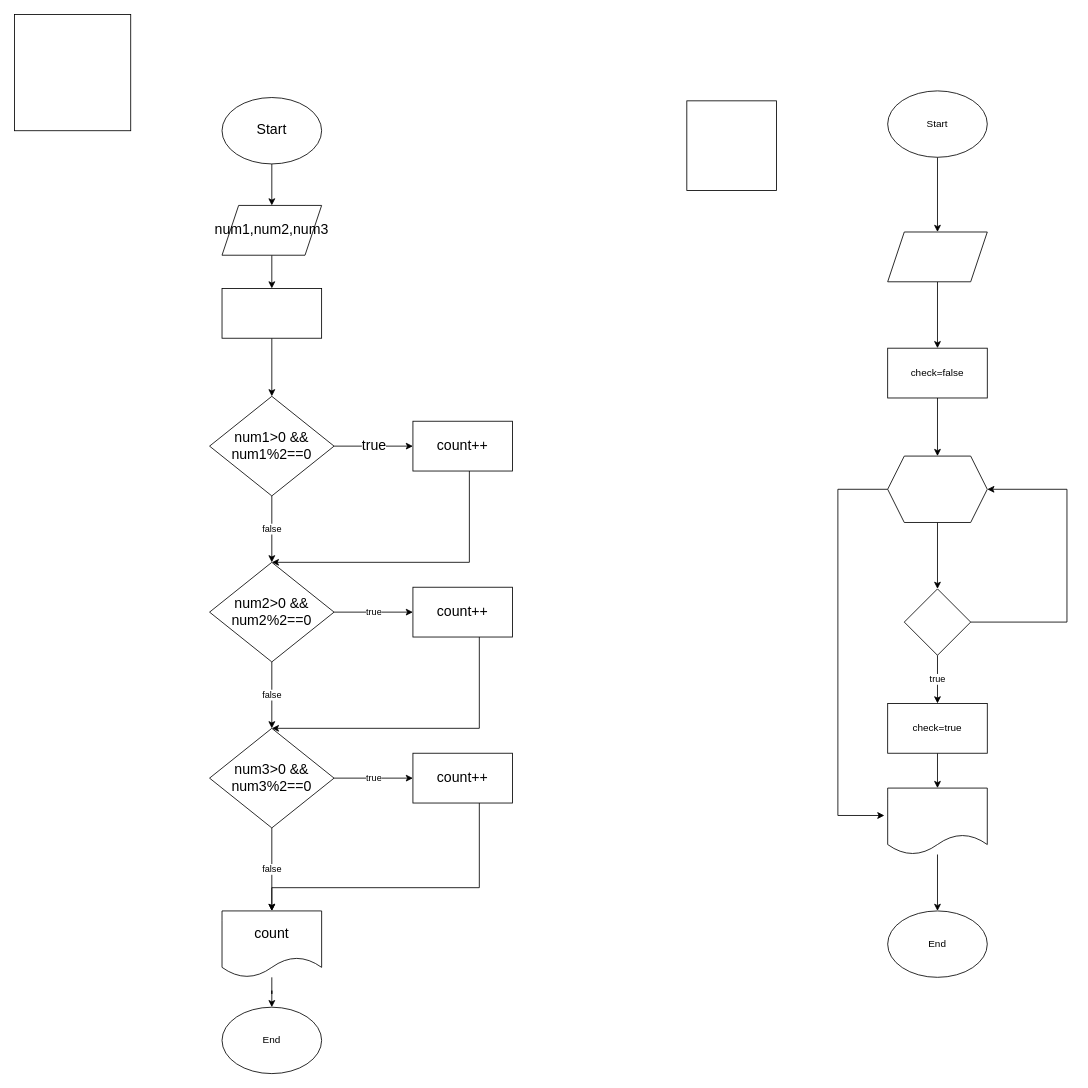
The diagram is 1088 pixels wide and 1088 high, and some of its shapes have lost their labels. Each missing label, with the centre of its shape:
"check" goes at (x=937, y=820).
"count=0" goes at (x=271, y=313).
"i%11==0" goes at (x=937, y=621).
"n,m" goes at (x=937, y=256).
"n-den m-edek ededler icerisinde 11-e bolunen varmi" goes at (x=731, y=145).
"var i=n; i<m;i++" goes at (x=937, y=488).
"Verilmis 3 ededden musbet ve cut olnalarin sayini tapan alqoritm" goes at (x=72, y=72).
